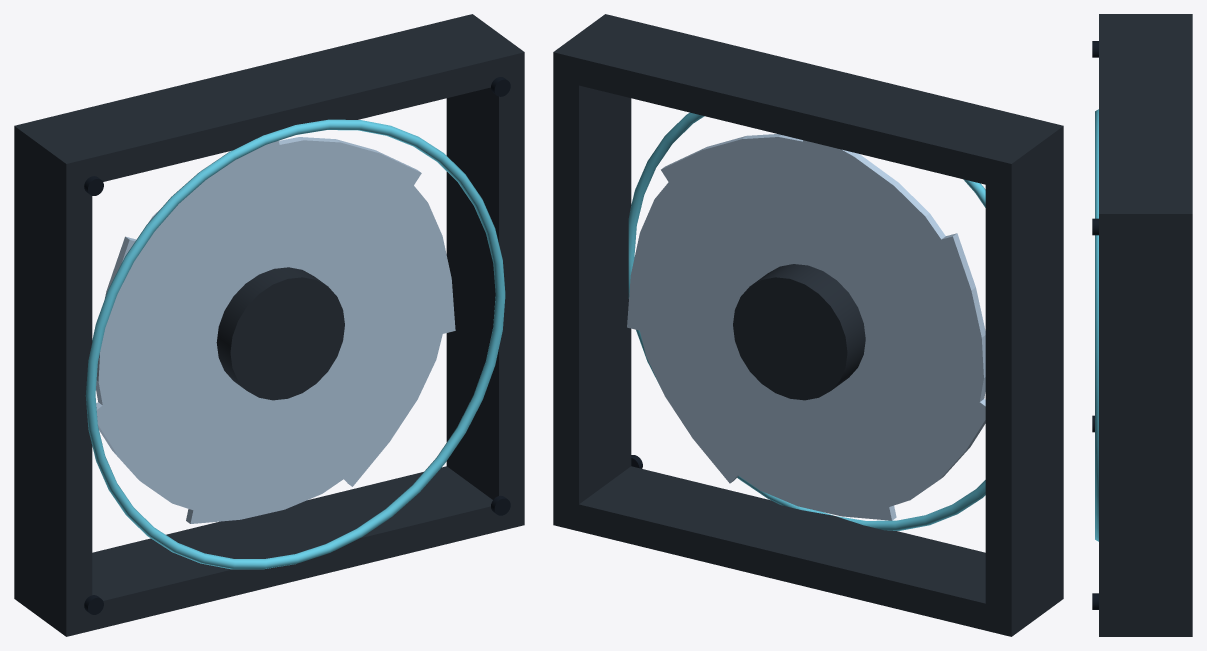
Rendered from retail-lian-li-uni-fan-tl-140-wireless-black.glb.
The picture shows the model from 3 angles, left to right: view 1: azimuth 30°, elevation 25°; view 2: azimuth 150°, elevation 25°; view 3: azimuth 270°, elevation 25°; orthographic projection. The views are drawn at different scales.
Visible parts, largest first — view 1: Frame edge (×4), Blade (×7), Intake rim, Motor hub; view 2: Frame edge (×4), Blade (×7), Motor hub, Intake rim; view 3: Frame edge (×3), Intake rim.
Part boxes in pixels (left/top/right/bottom): Frame edge (×4): left=14, top=14, right=524, bottom=636; Blade (×7): left=96, top=137, right=455, bottom=523; Intake rim: left=85, top=119, right=505, bottom=569; Motor hub: left=216, top=267, right=344, bottom=400; Frame edge (×4): left=553, top=14, right=1063, bottom=636; Blade (×7): left=627, top=134, right=985, bottom=520; Motor hub: left=733, top=264, right=865, bottom=400; Intake rim: left=628, top=112, right=985, bottom=530; Frame edge (×3): left=1099, top=14, right=1192, bottom=636; Intake rim: left=1095, top=109, right=1098, bottom=541.
Size of the model in its own units: 0.142 by 0.14 by 0.03.
